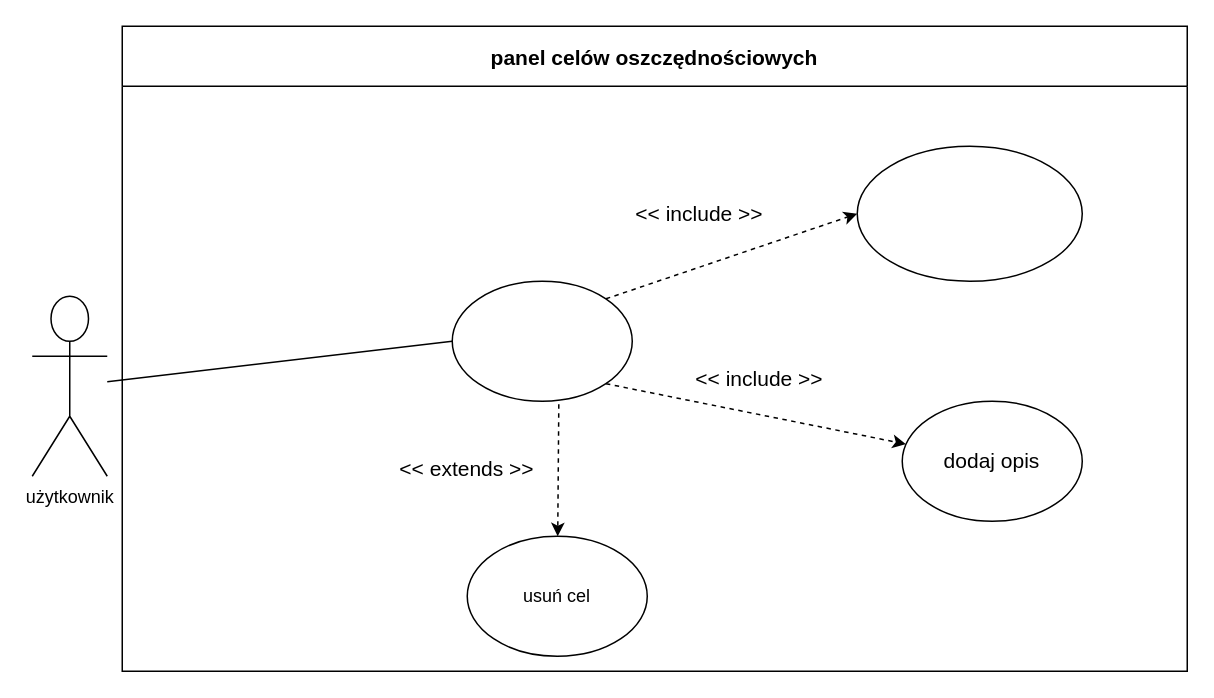
This 1214x698 diagram has some shape labels left out. The shapes that lost their labels are listed below. From the top down, each one's box as (x1, y1, x2, y2) in pixels, then its label:
(856, 145, 1082, 281): podaj kwotę pieniędzy do zaoszczędzenia
(451, 280, 632, 401): dodaj cel oszczędnościowy
